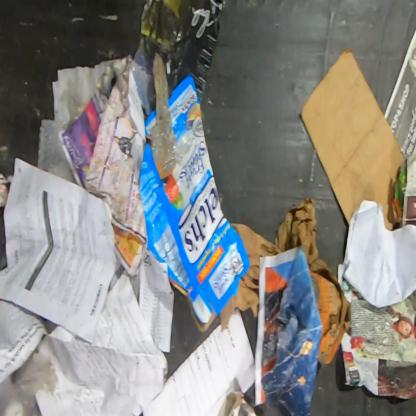cardboard: (138, 71, 253, 334), (301, 45, 406, 231), (309, 257, 351, 365)
soft_plastic: (148, 51, 176, 176), (37, 118, 77, 185)
